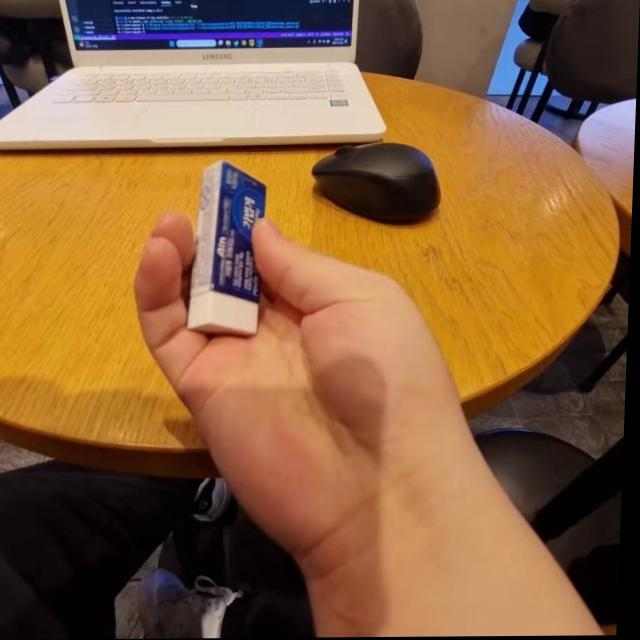grab_eraser: (135, 168, 435, 563)
mouse: (307, 125, 459, 235)
